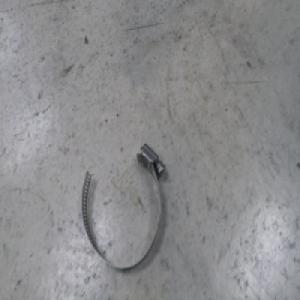AdjustableClamp: (80, 139, 165, 270)
